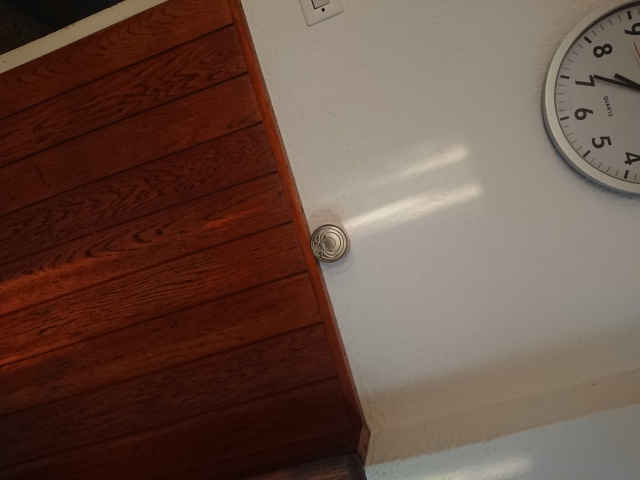Podravka Luncheon Meat 150g: (307, 223, 352, 264)
